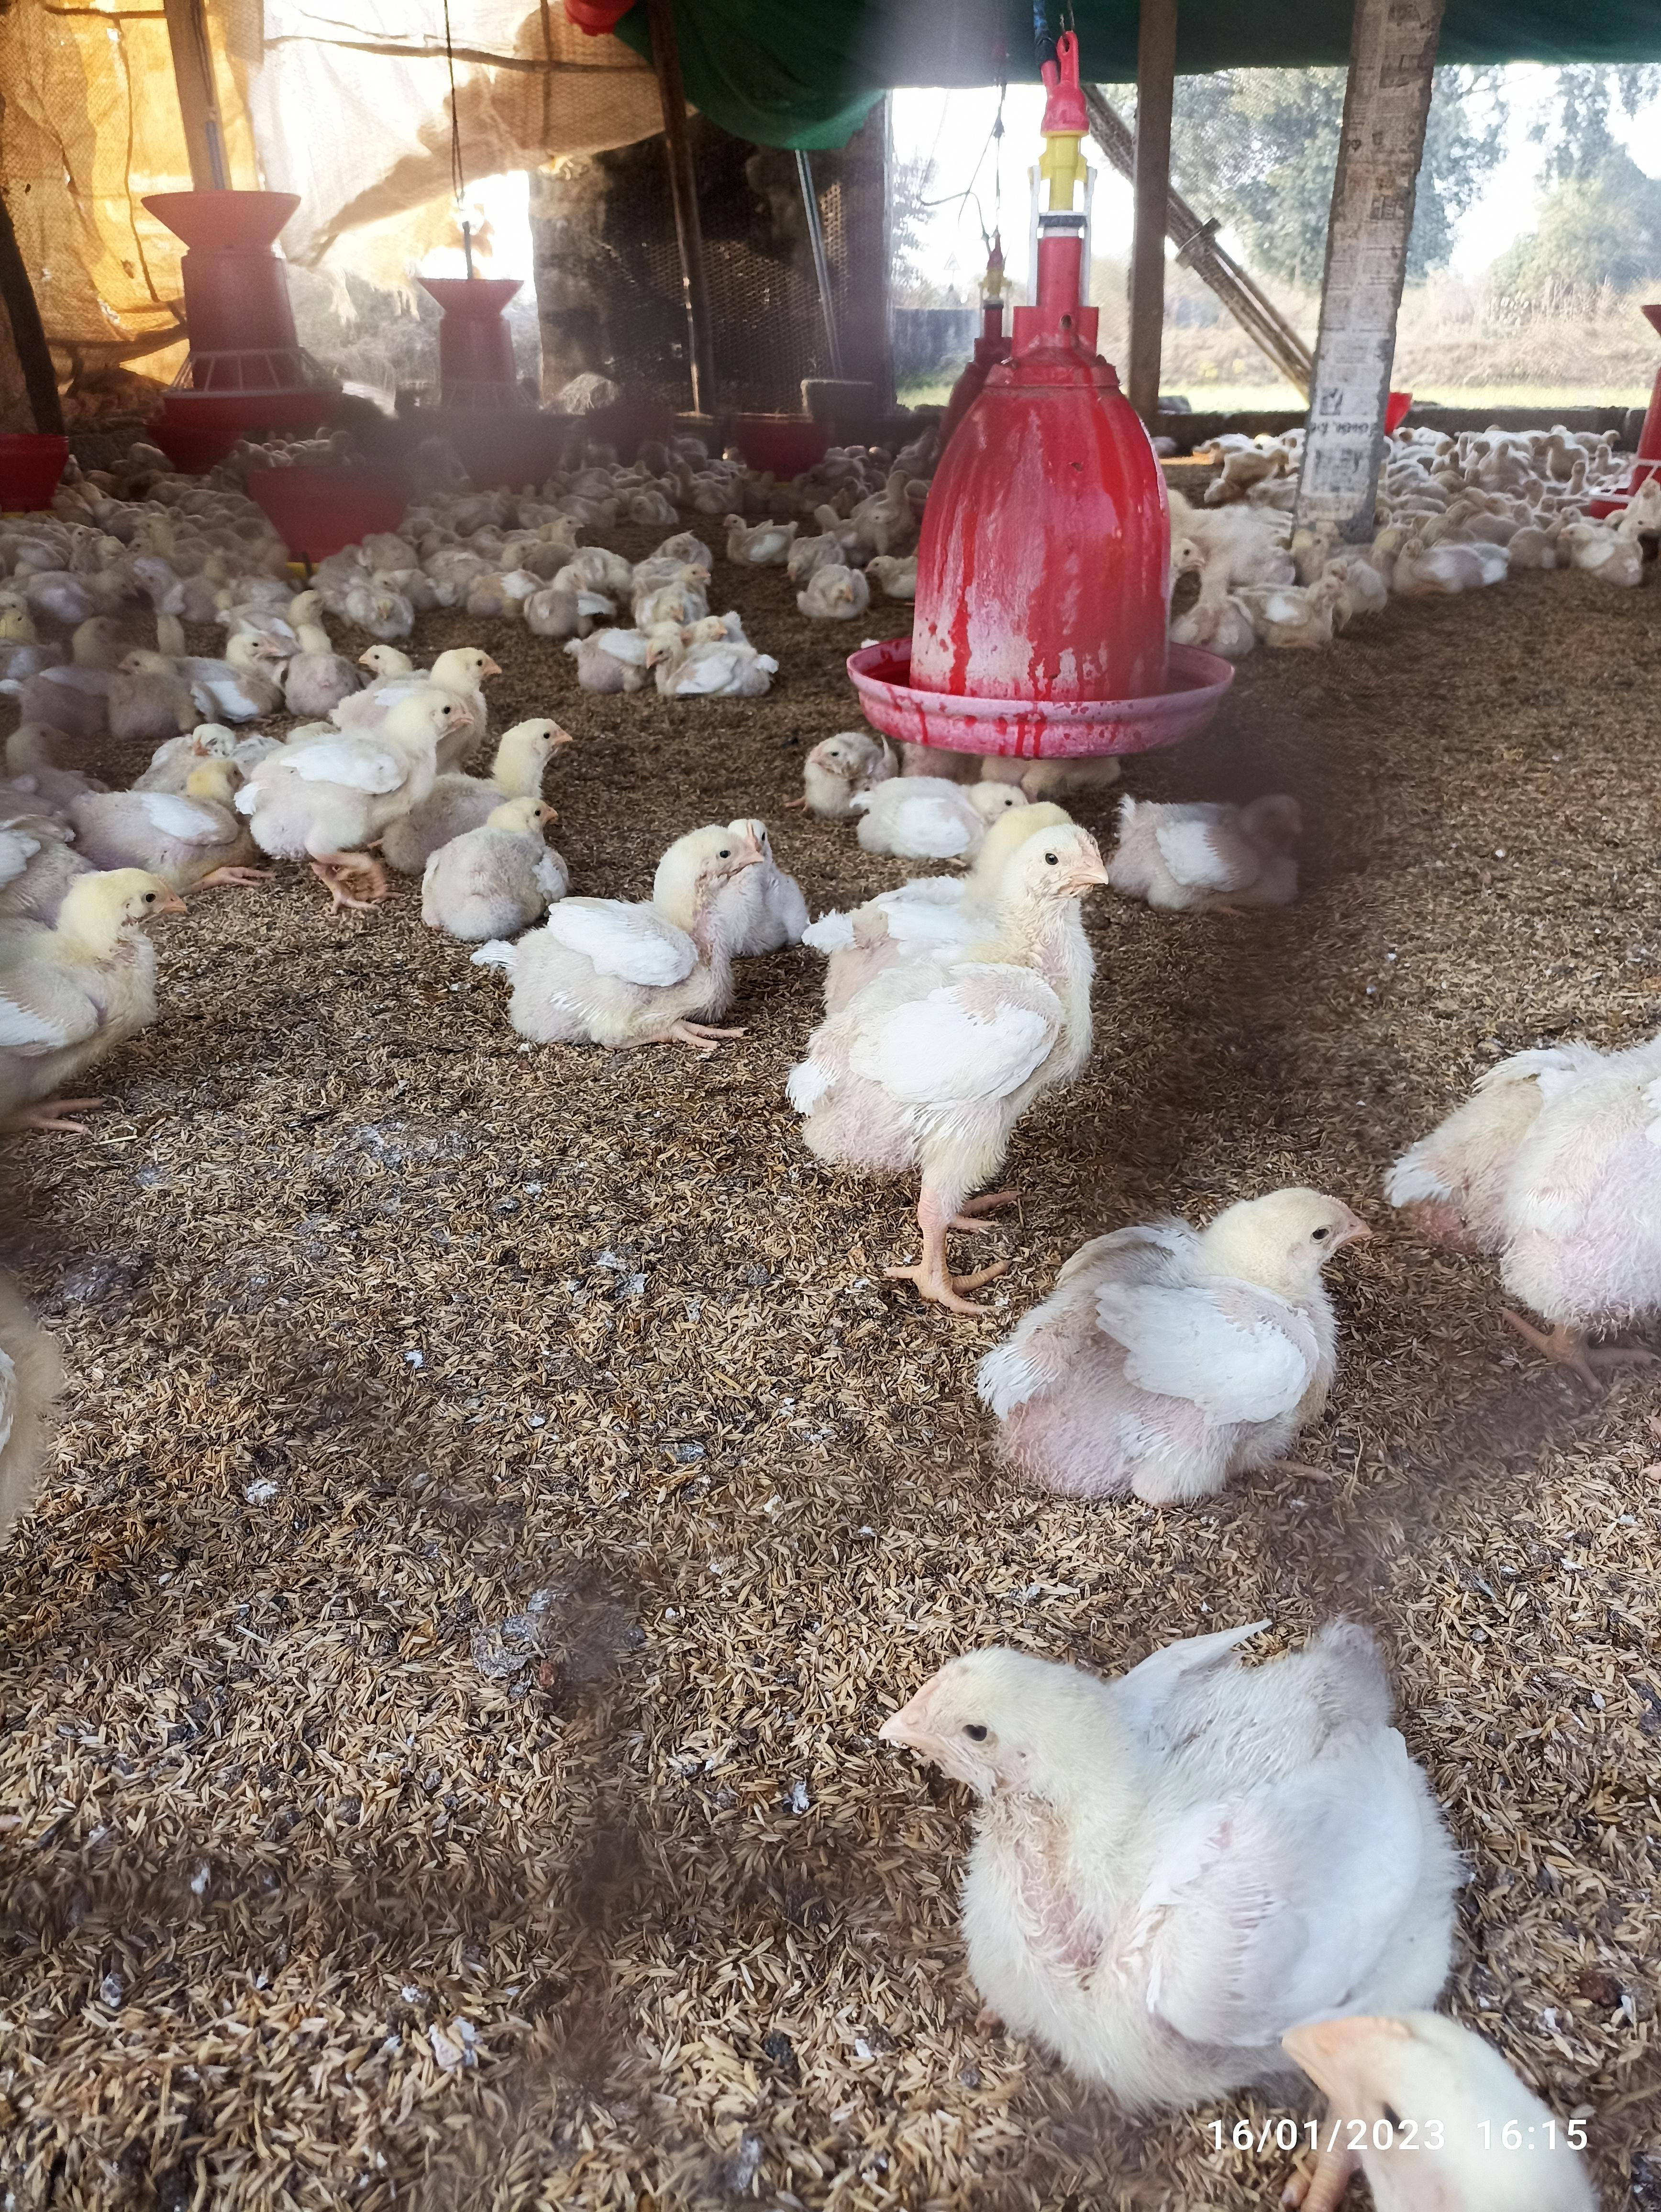Pollos: (883, 1631, 1466, 2017), (974, 1178, 1371, 1493), (804, 799, 1094, 1186), (508, 832, 768, 1034), (0, 867, 197, 1080), (236, 687, 478, 857), (1101, 785, 1317, 907), (424, 708, 569, 857), (422, 799, 565, 946), (99, 715, 234, 860), (637, 618, 775, 691), (400, 633, 497, 729), (792, 722, 890, 806), (1234, 576, 1350, 645), (197, 635, 284, 713), (103, 651, 190, 727), (1392, 534, 1490, 600), (801, 562, 878, 625), (717, 513, 794, 565)
